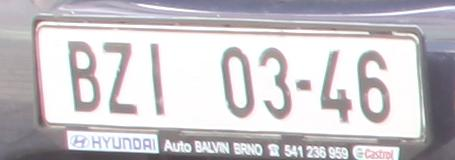-: (295, 77, 312, 92)
0: (219, 46, 255, 119)
3: (259, 46, 292, 119)
4: (318, 51, 354, 122)
6: (357, 50, 391, 124)
B: (63, 39, 101, 114)
I: (150, 41, 166, 118)
Z: (103, 41, 140, 117)
